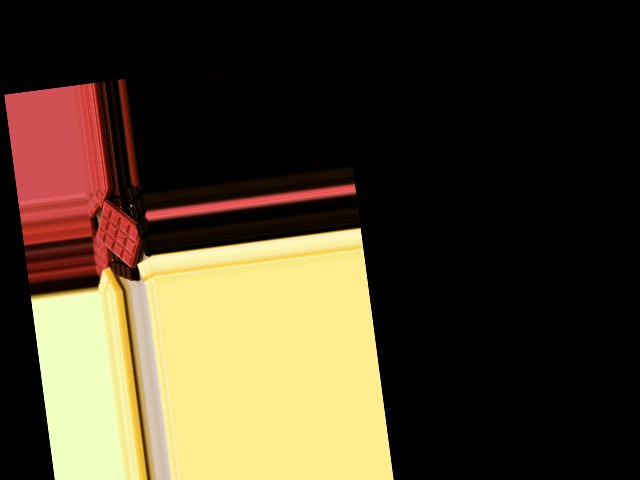chocolate: (90, 194, 154, 271)
